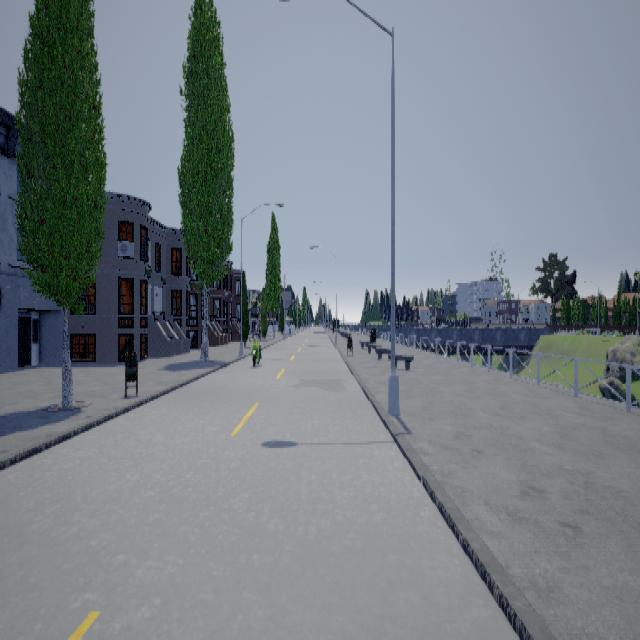motobike: (249, 327, 262, 364)
